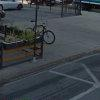Bicycle: (22, 14, 55, 49)
